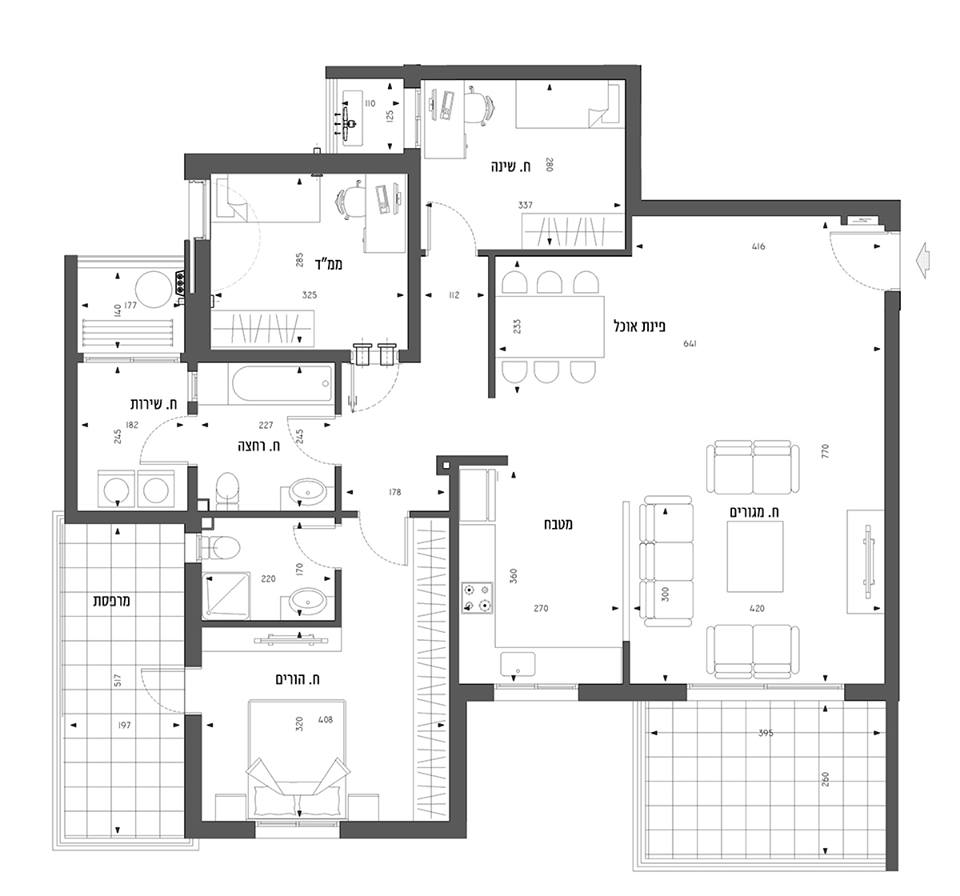door: (817, 224, 879, 296), (351, 527, 411, 579), (133, 417, 185, 466), (425, 199, 479, 243), (277, 523, 331, 567)
wall: (885, 306, 901, 858), (335, 65, 621, 81), (64, 256, 77, 512), (648, 200, 885, 213), (191, 156, 403, 168), (624, 65, 640, 217), (451, 692, 465, 833), (585, 685, 680, 700), (187, 719, 199, 829), (188, 296, 204, 359)
